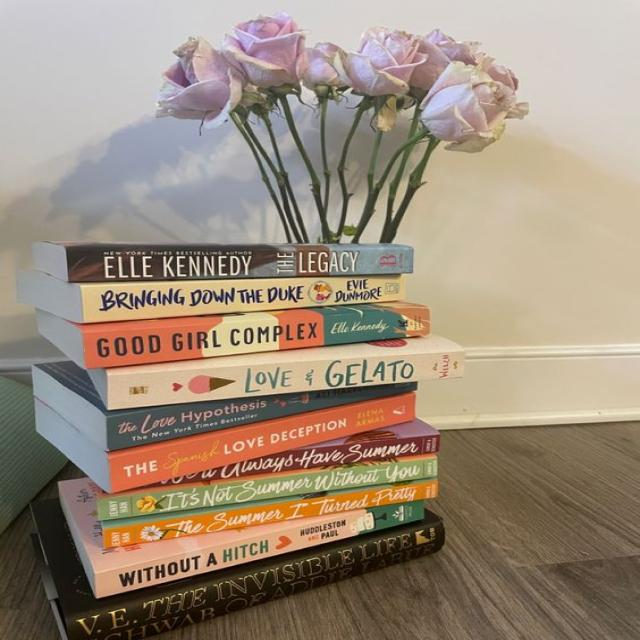book: (68, 522, 442, 640), (97, 501, 424, 597), (109, 393, 413, 491), (102, 479, 440, 547), (106, 381, 416, 451), (83, 308, 429, 369), (109, 350, 465, 409), (100, 458, 438, 520), (149, 433, 440, 486), (84, 277, 404, 322), (71, 247, 410, 282)
flowers: (157, 14, 528, 243)
